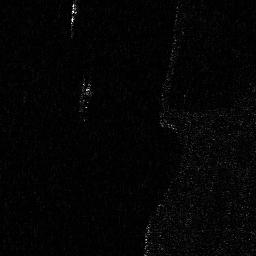ship: (77, 75, 91, 112), (70, 1, 78, 33)
